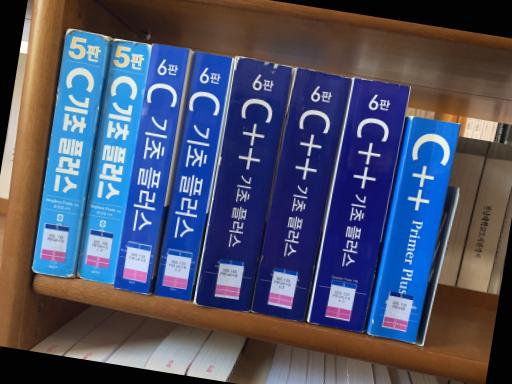book-spine: (307, 77, 411, 332), (251, 66, 352, 321), (193, 55, 293, 311), (367, 115, 461, 343), (152, 51, 233, 301), (30, 28, 109, 278), (112, 43, 190, 294), (77, 38, 152, 283)
